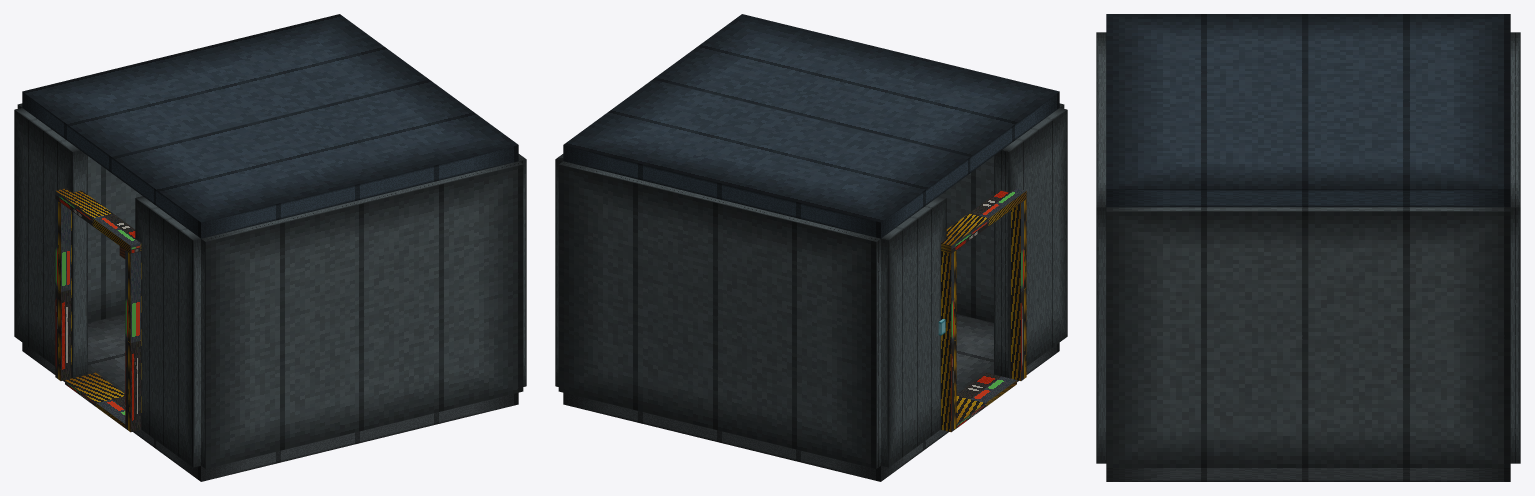
Rendered from sala_4.obj.
The picture shows the model from 3 angles, left to right: view 1: azimuth 30°, elevation 25°; view 2: azimuth 150°, elevation 25°; view 3: azimuth 270°, elevation 25°; orthographic projection. The views are drawn at different scales.
Bounding box in the file's own units: 4.44 × 3.2 × 4.2.
Materials: 6 (6 with a texture image).
